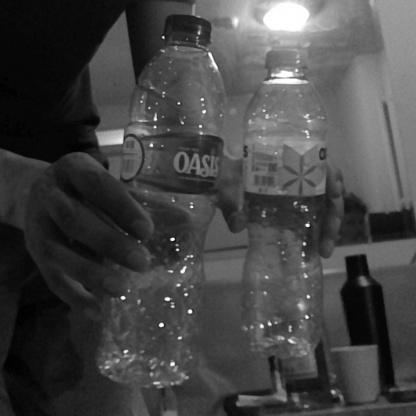plastic_bottles: (96, 13, 226, 393), (238, 47, 324, 359)
